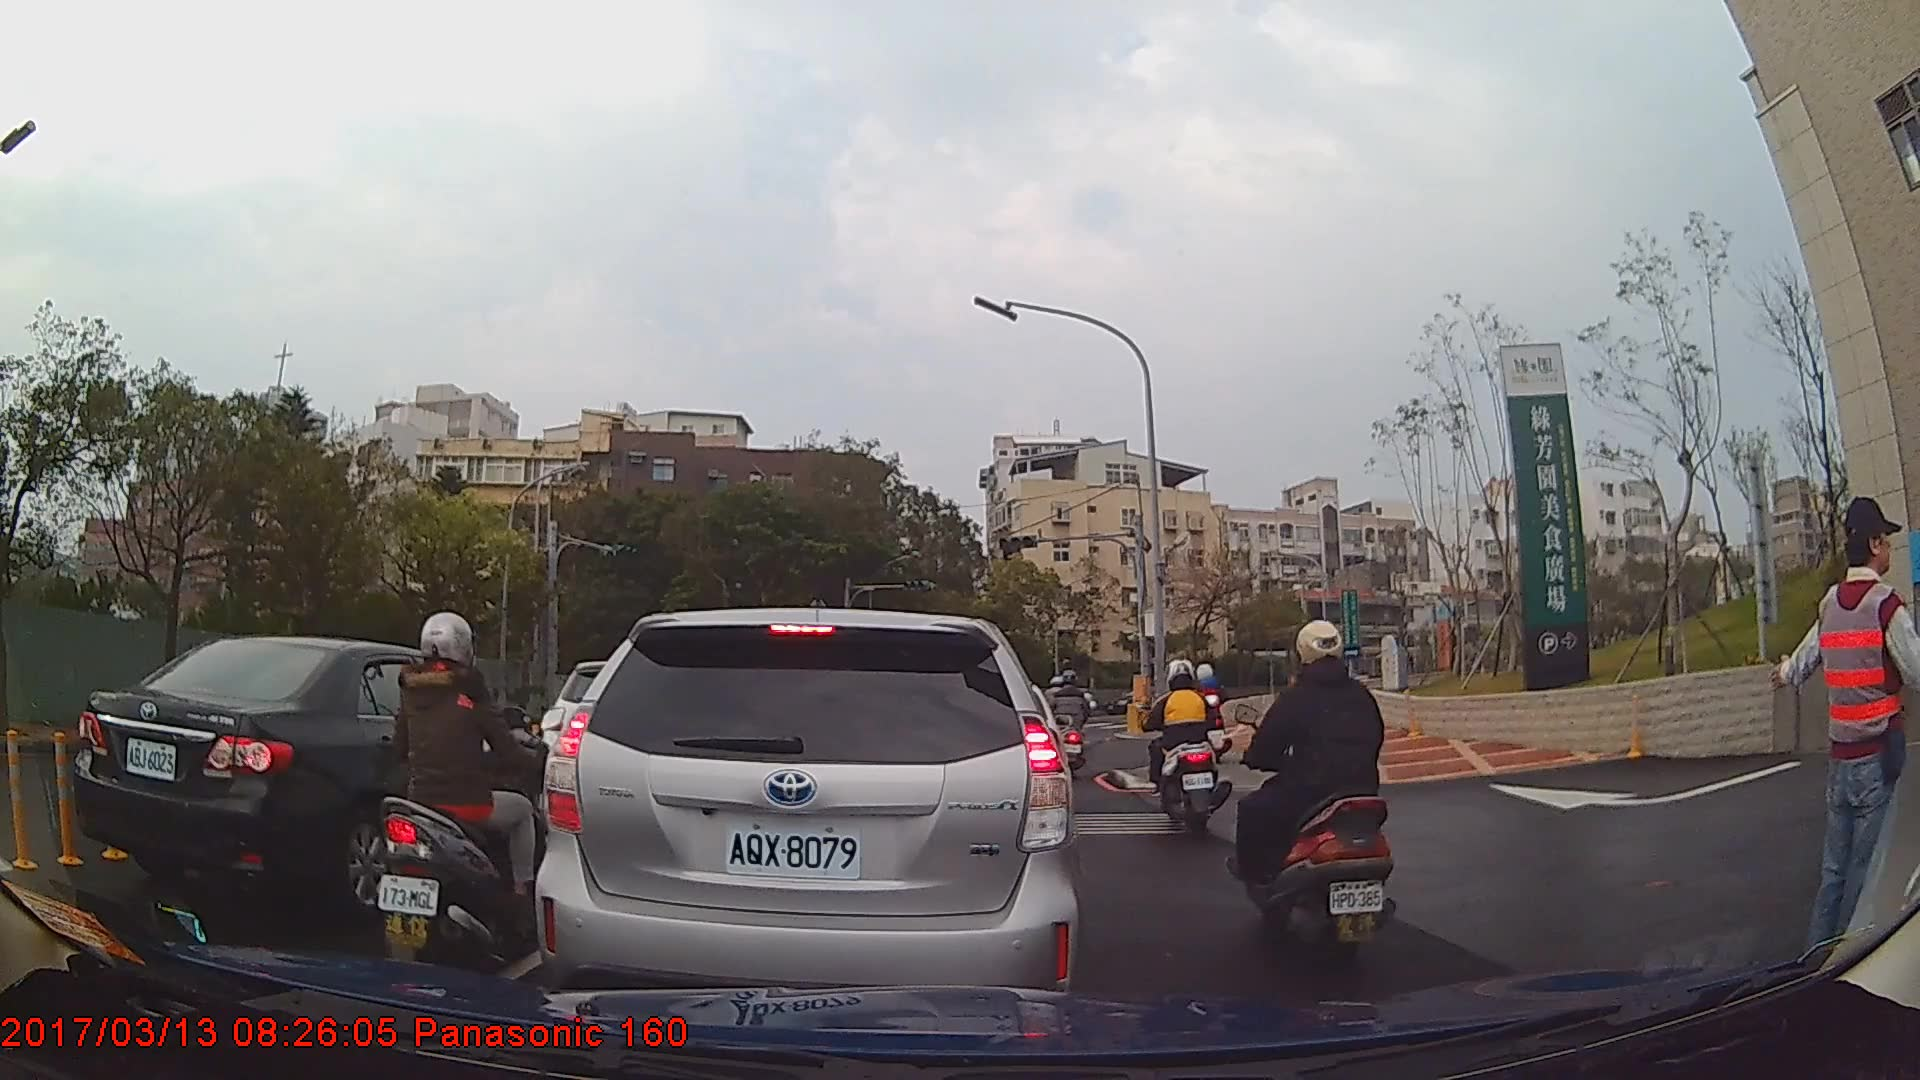pedestrian: (1765, 496, 1920, 979)
rider: (371, 611, 562, 983), (1227, 615, 1402, 974), (1139, 657, 1227, 841), (1189, 663, 1235, 772), (1049, 671, 1094, 777)
vehicle: (533, 603, 1080, 1016), (70, 634, 568, 916), (1099, 682, 1167, 715)
